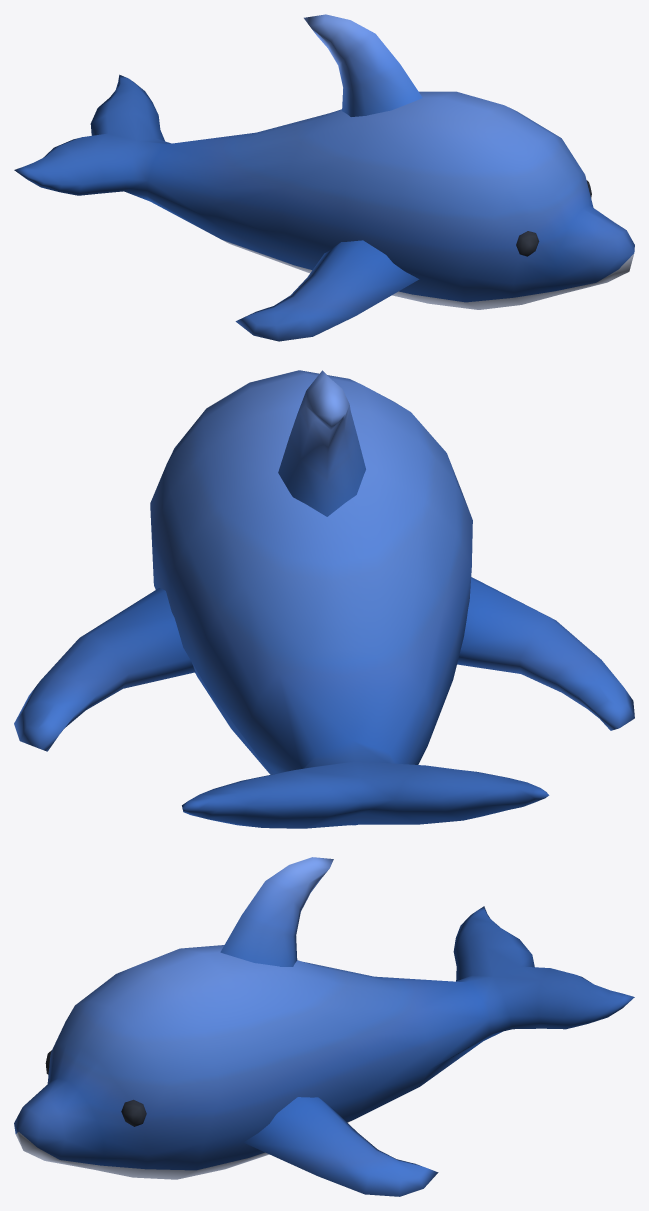
The model's file is Dolphin Toy.fbx.
3 views of the same model, one above another, from view 1: azimuth 30°, elevation 25°; view 2: azimuth 150°, elevation 25°; view 3: azimuth 270°, elevation 25° (orthographic). The views are drawn at different scales.
Visible parts, largest first — view 1: Dolphin Toy; view 2: Dolphin Toy; view 3: Dolphin Toy.
Boxes of the visible parts, x1,y1,x2,y2 form: Dolphin Toy: (14, 14, 634, 341); Dolphin Toy: (14, 370, 634, 828); Dolphin Toy: (14, 857, 634, 1196).
Bounding box in the file's own units: 41.22 × 24.21 × 51.27.
Materials: 1 (1 with a texture image).
